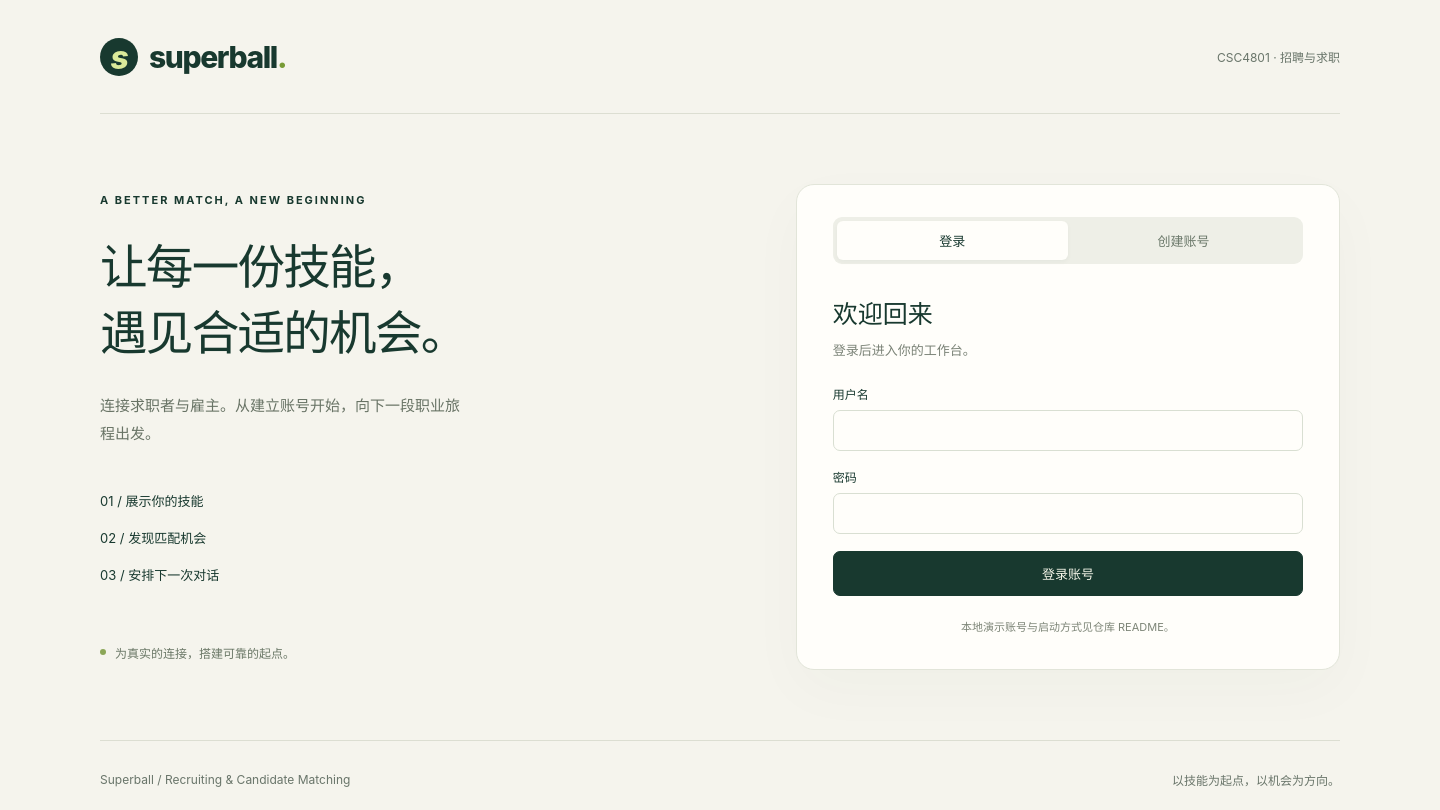
Test: shows login for an anonymous visitor and logs in with submitted credentials
expect the heading "欢迎回来" is shown: met, box [833,299,933,329]
Type "alice" into the field labelled "用户名".
click(1068, 430); type("alice")  # box [833,410,1303,451]
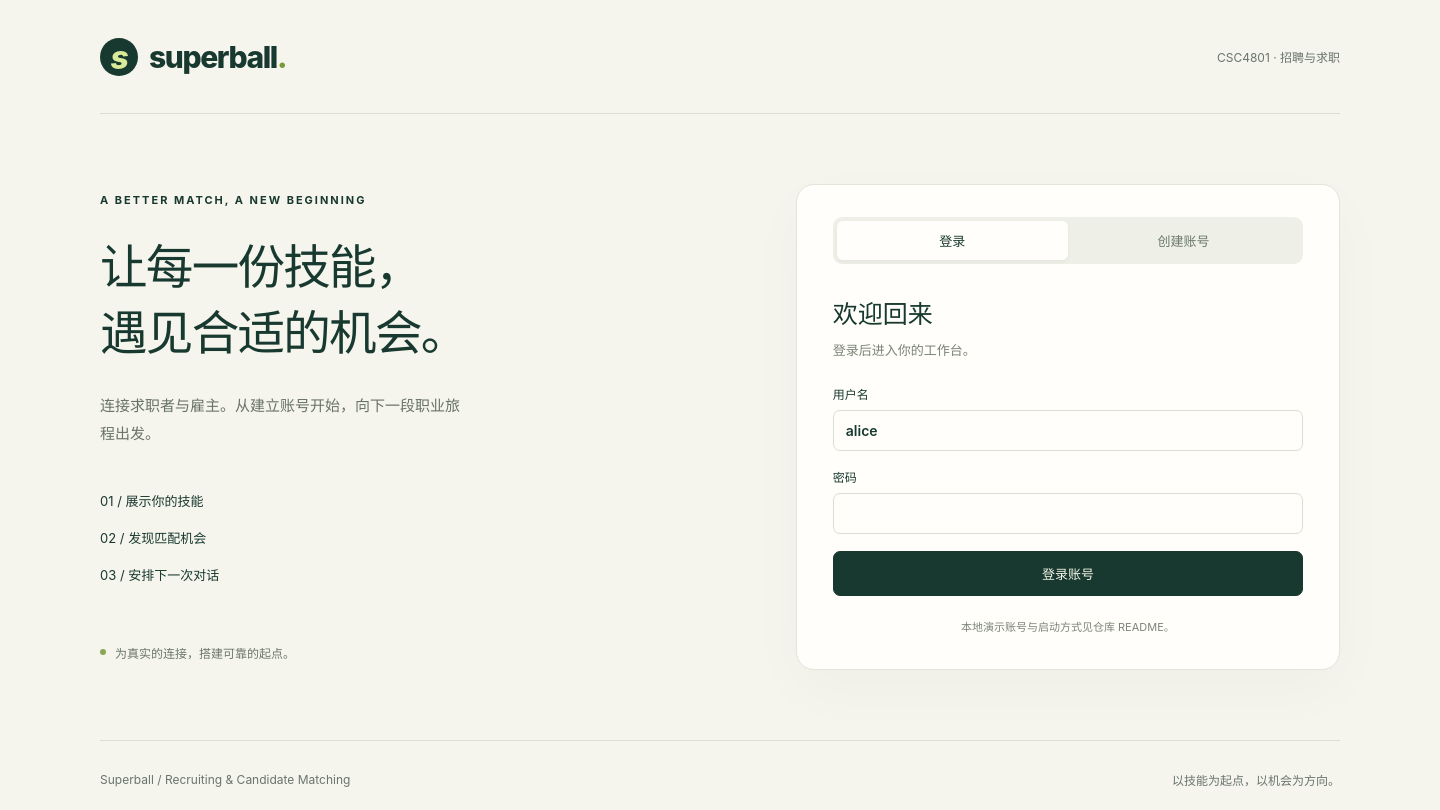
Type "secret" into the password field labelled "密码".
click(1068, 514); type("secret")  # box [833,493,1303,534]
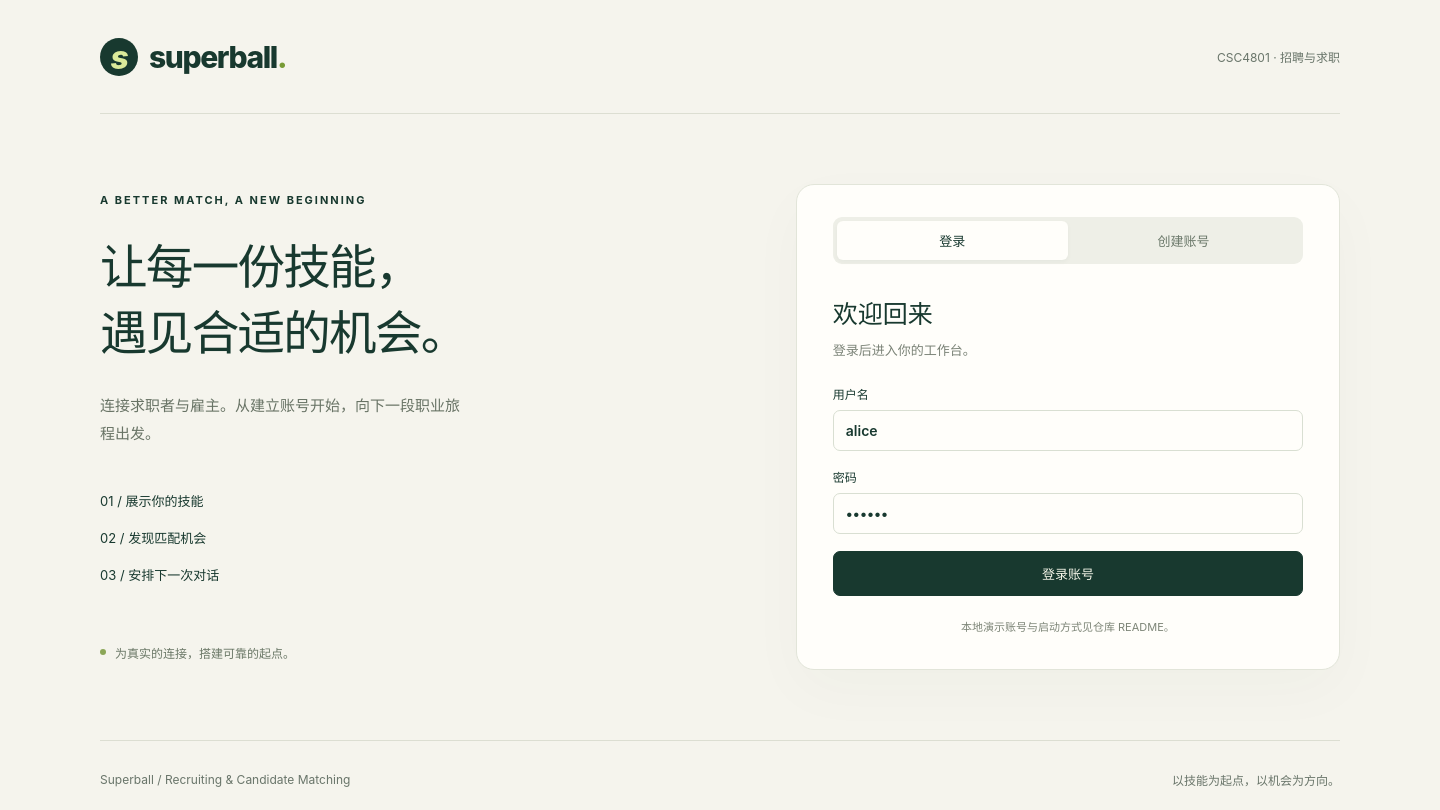
Click the button "登录账号".
click(1068, 574)  # box [833,551,1303,596]
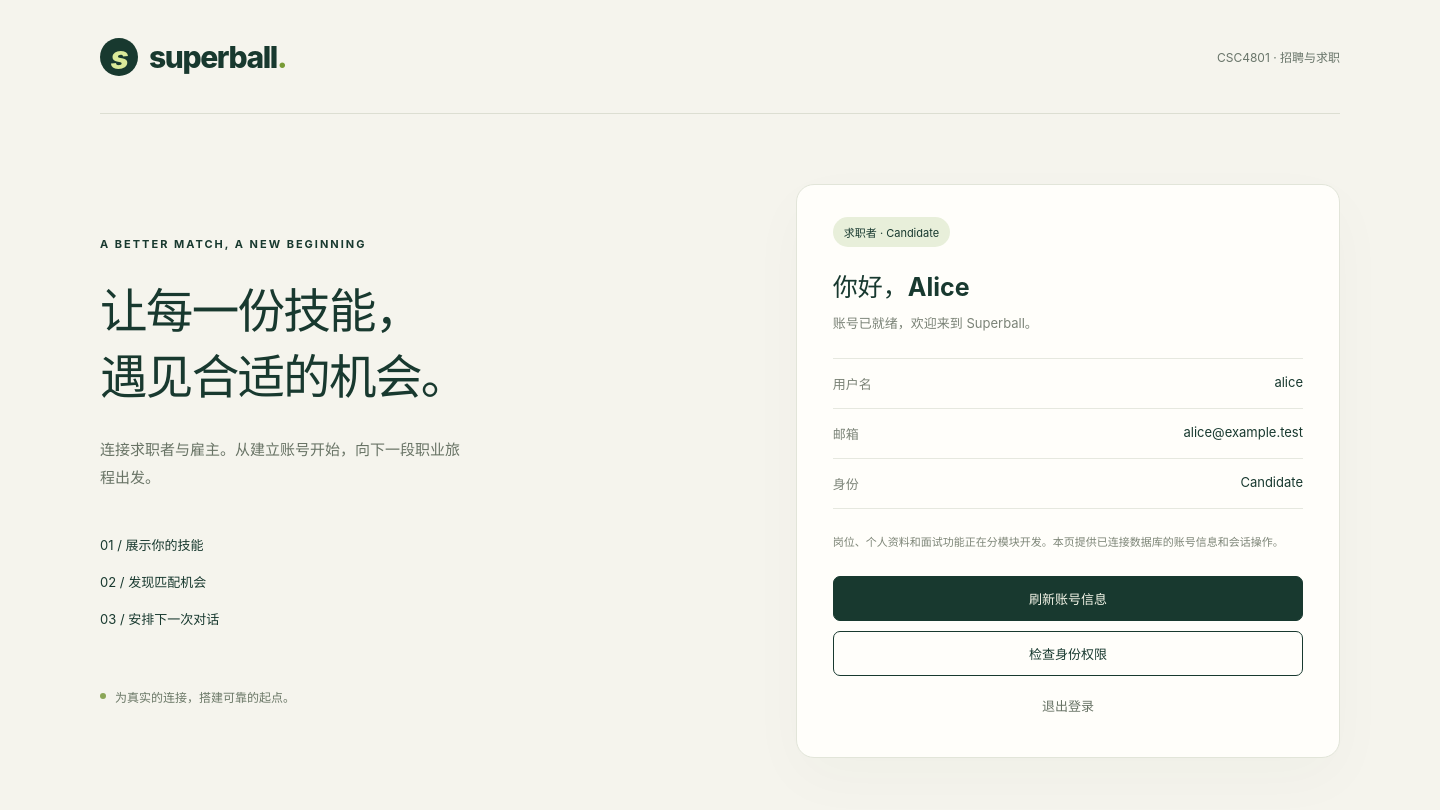
expect the heading "你好，Alice" is shown: met, box [833,272,970,302]
